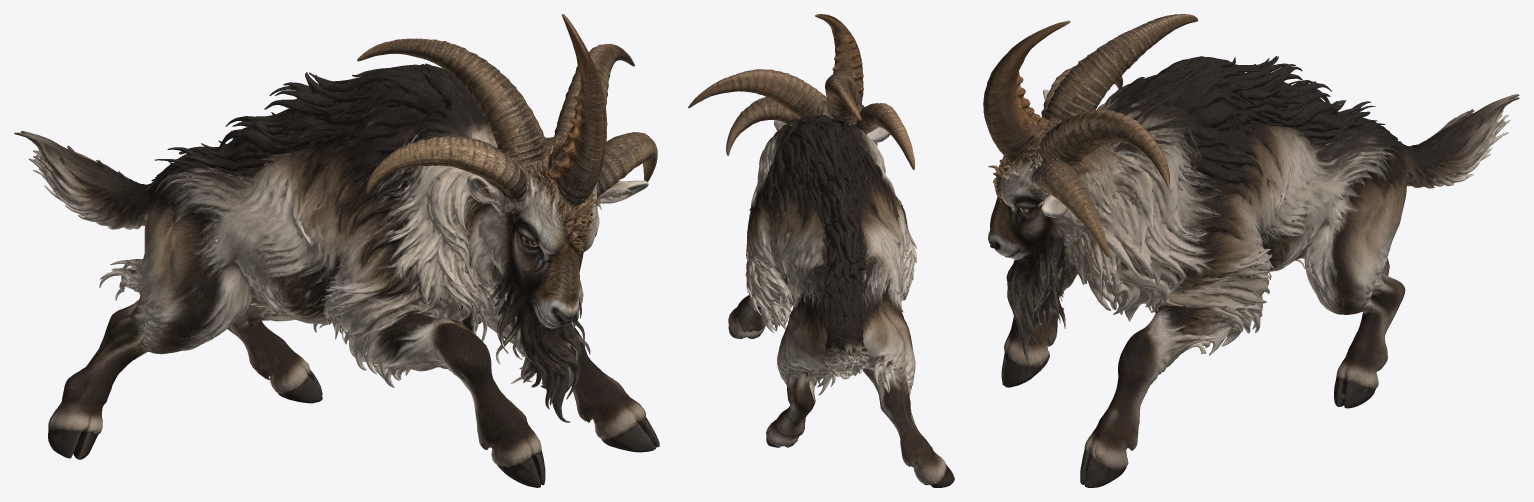
File: goat_horn.glb
The picture shows the model from 3 angles, left to right: view 1: azimuth 30°, elevation 25°; view 2: azimuth 150°, elevation 25°; view 3: azimuth 270°, elevation 25°; orthographic projection. The views are drawn at different scales.
Bounding box in the file's own units: 1.77 × 1.67 × 1.9.
Materials: 1 (1 with a texture image).
